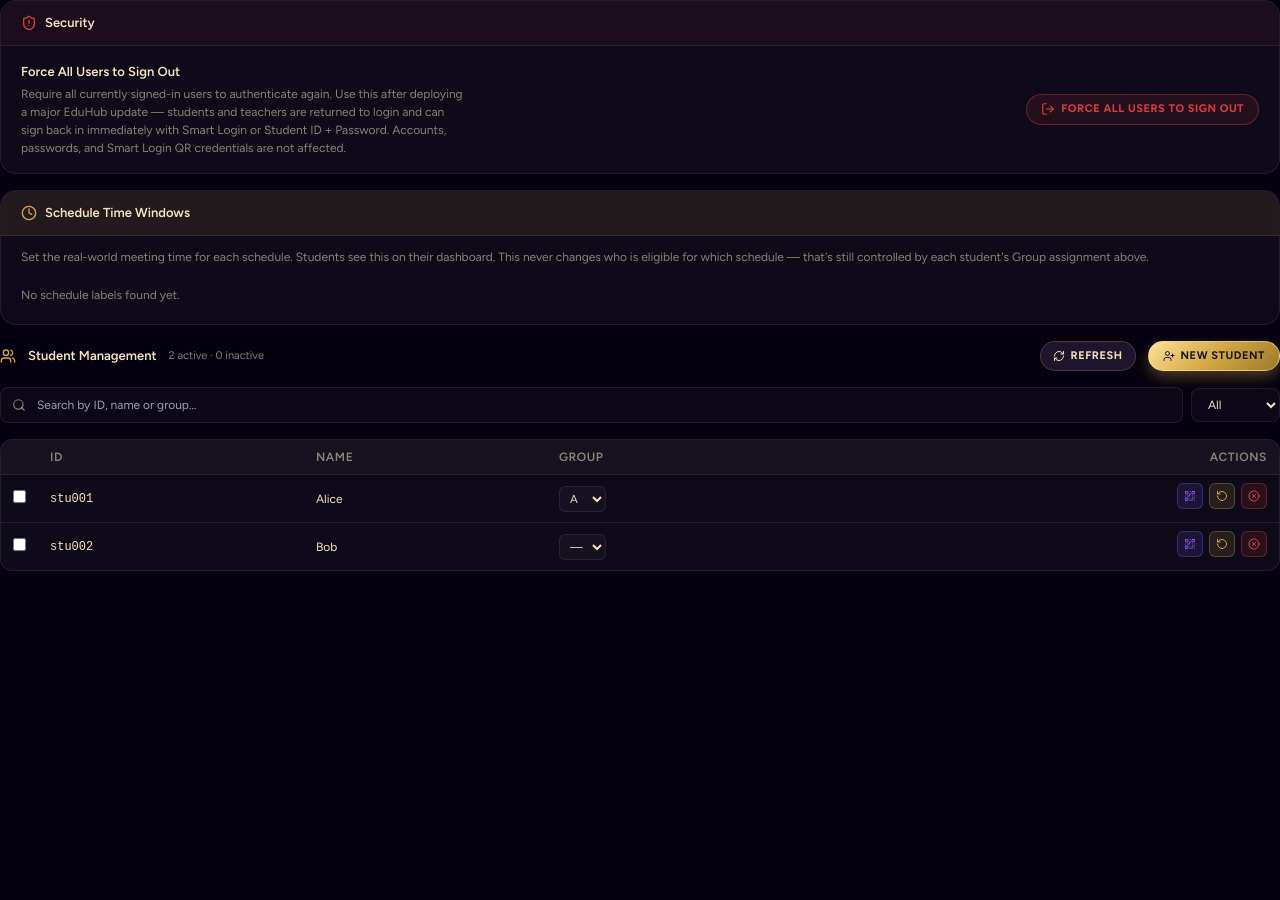
Test case: StudentManager — Schedule A/B assignment (item 1) › confirmation_required shows a confirm dialog, and confirming retries with confirm:true
This screenshot has width=1280, height=900.
Select "B" in the dropdown with test id "student-schedule-select-stu001" at {"x": 582, "y": 498}, box [559,486,606,512]
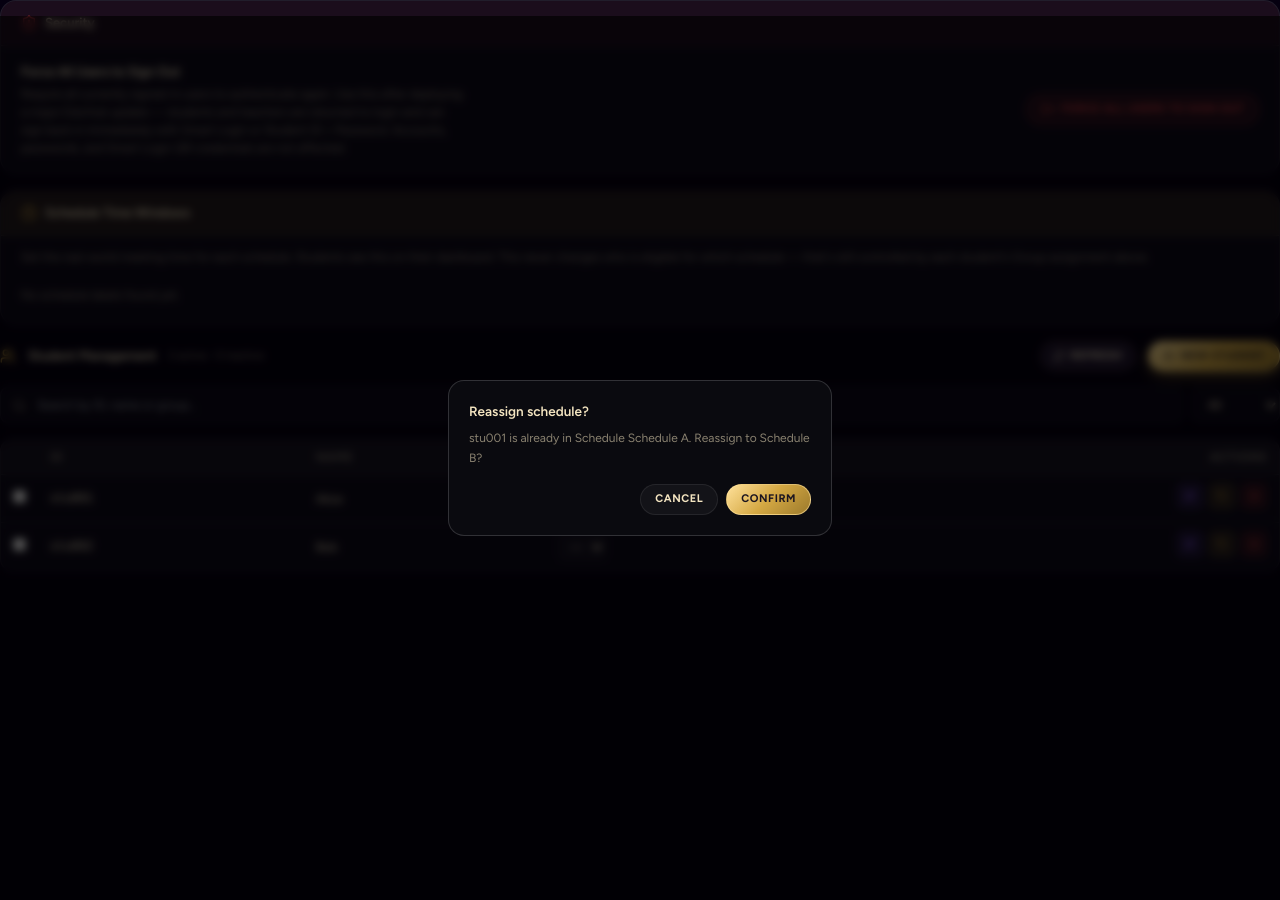
Now the element with test id "confirm-schedule-reassign" is shown
Click the button with test id "confirm-schedule-reassign-confirm" at {"x": 769, "y": 500}, box [726,484,811,515]
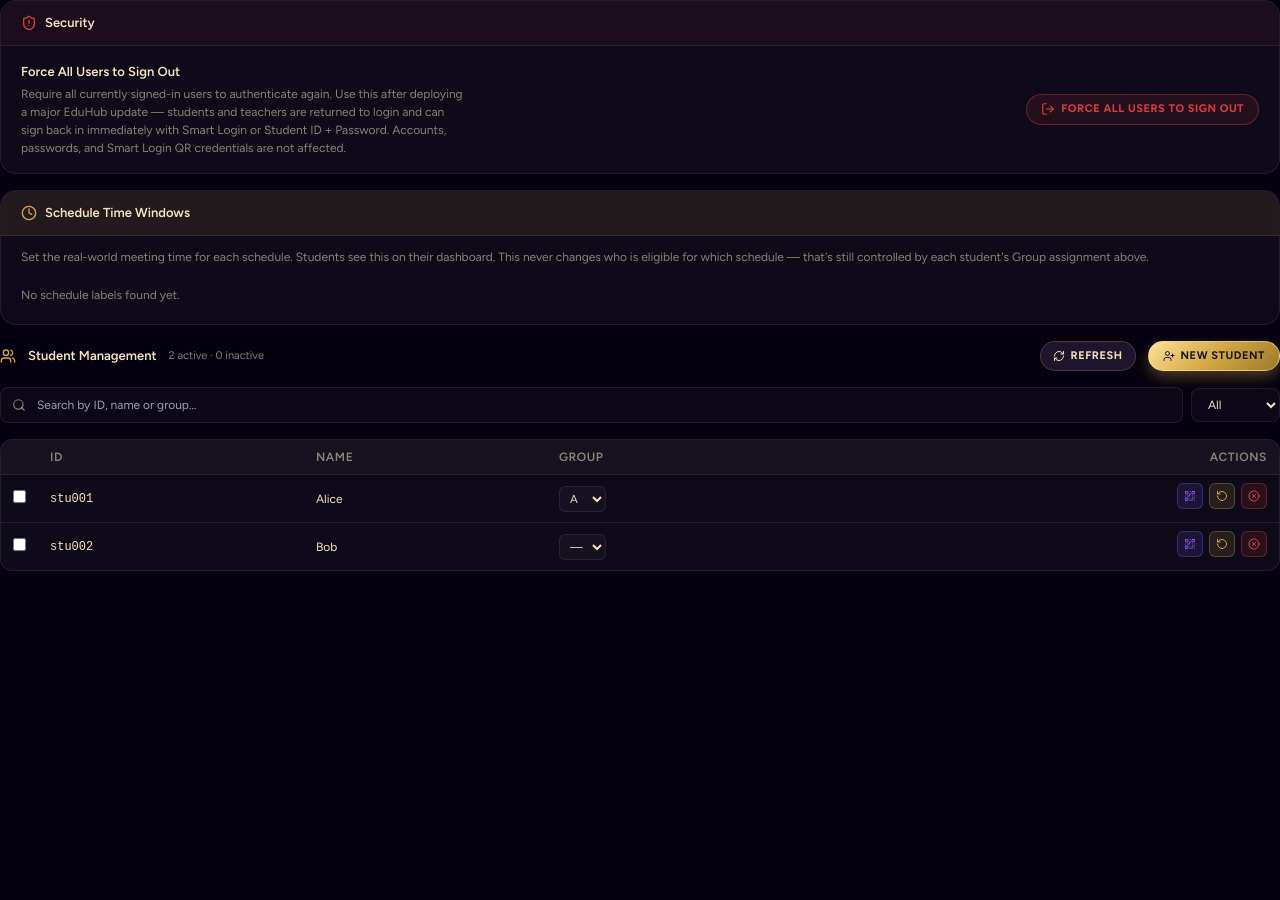
Now the element with test id "confirm-schedule-reassign" is gone
